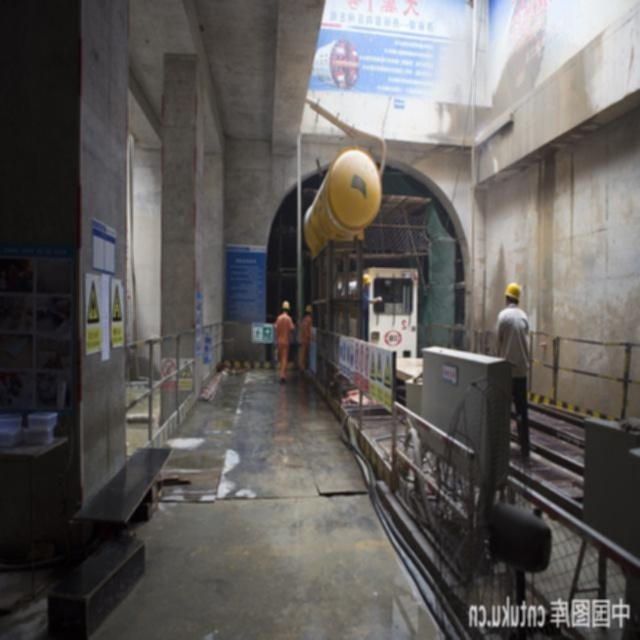Con_Casco: (504, 282, 520, 308), (282, 301, 290, 314)
